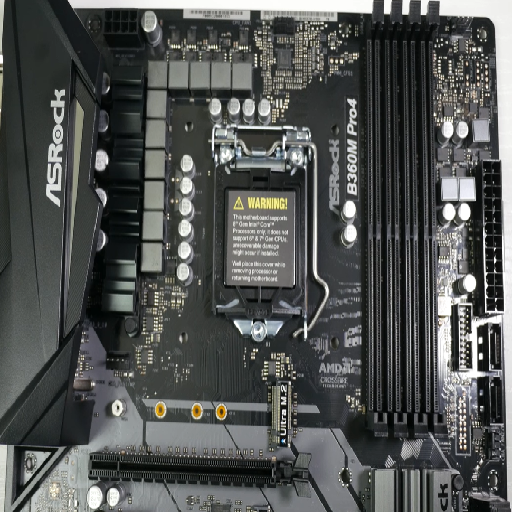CPU: (205, 117, 328, 338)
GPU: (82, 447, 312, 495)
MOTHERBOARD: (2, 2, 512, 510)
RAM: (349, 4, 458, 440)
SSD: (257, 353, 300, 456)
